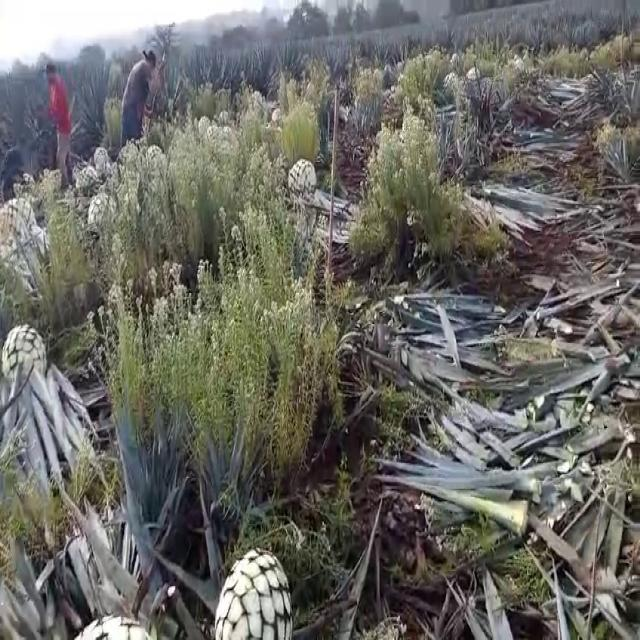agave: (212, 541, 304, 640), (0, 317, 48, 392), (284, 152, 317, 196), (83, 191, 112, 238)
